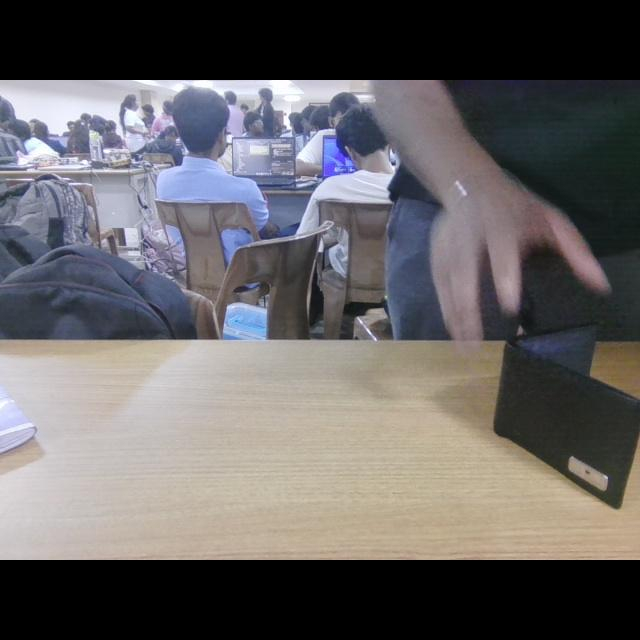wallet: (492, 326, 636, 494)
